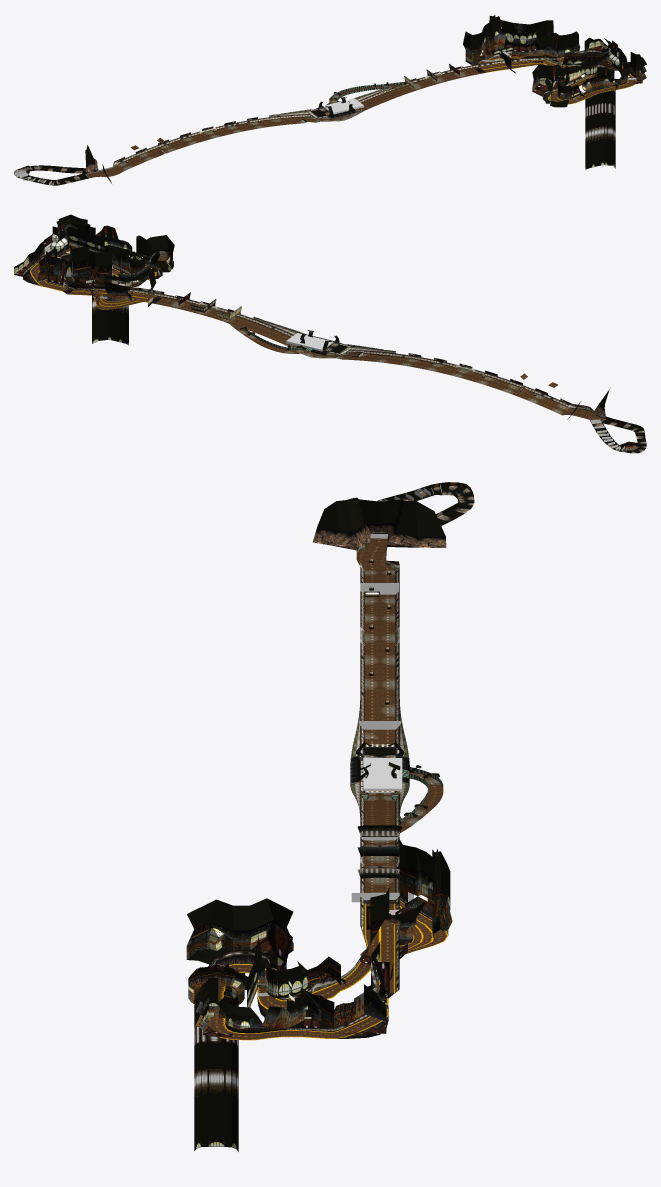
File: Beltane.glb
The picture shows the model from 3 angles, top to bottom: view 1: azimuth 30°, elevation 25°; view 2: azimuth 150°, elevation 25°; view 3: azimuth 270°, elevation 25°; orthographic projection. The views are drawn at different scales.
Visible parts, largest first — view 1: Walls, Road, RepairZone0; view 2: Walls, Road, RepairZone0; view 3: Walls, Road, RepairZone0.
Part boxes in pixels (box(x1,y1,x2,y2)): Walls: box(15, 15, 646, 183); Road: box(14, 52, 636, 185); RepairZone0: box(323, 98, 363, 113); Walls: box(14, 214, 646, 450); Road: box(23, 248, 646, 453); RepairZone0: box(286, 333, 333, 351); Walls: box(186, 482, 474, 1151); Road: box(208, 486, 473, 1040); RepairZone0: box(363, 757, 402, 792).
Bounding box in the file's own units: 3072 × 659 × 669.
28 materials, 23 textured.
